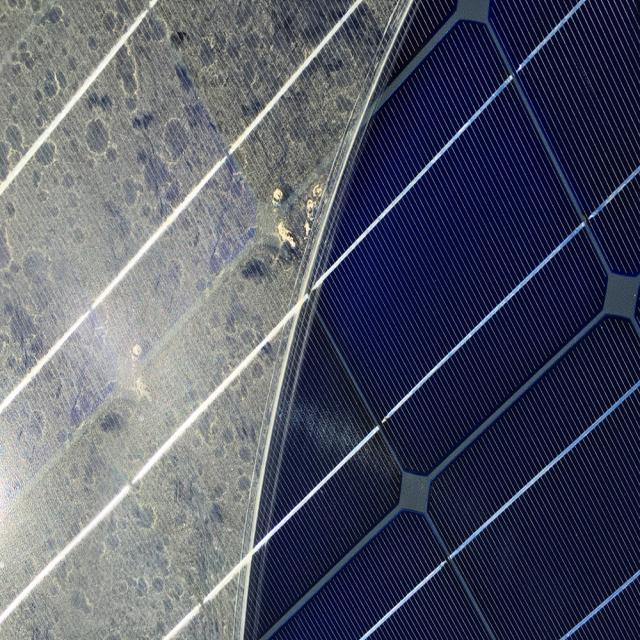dust-solar-panel: (0, 0, 410, 640)
